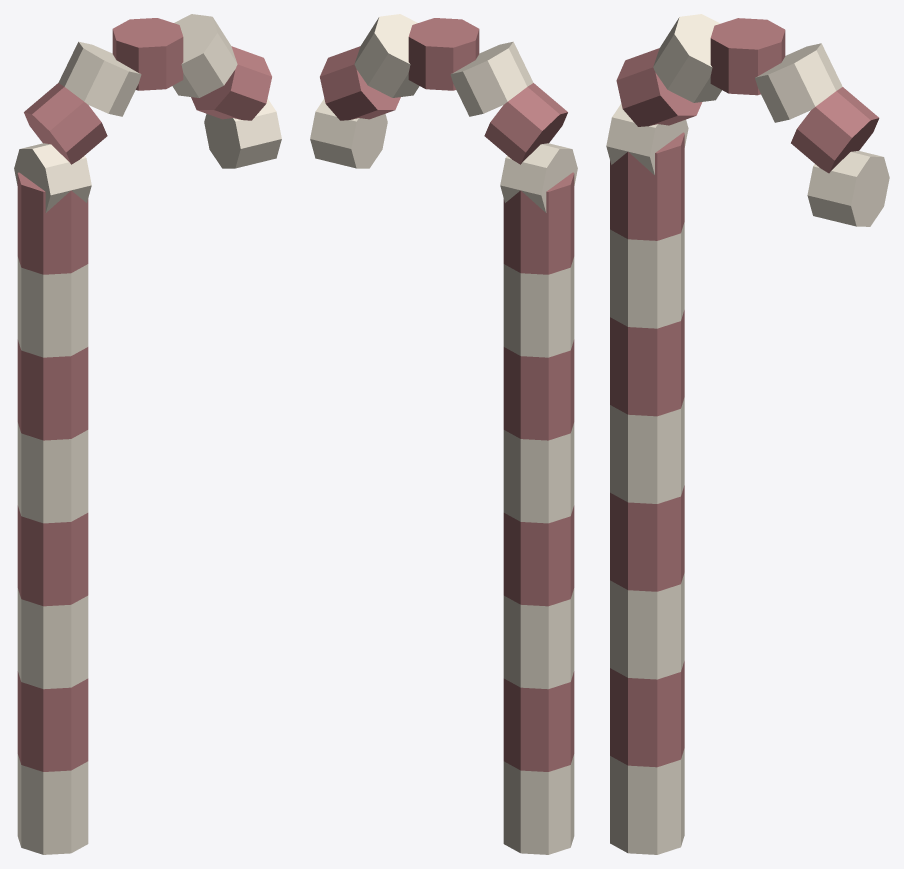
The model's file is sb_candy_cane_tree.glb.
The picture shows the model from 3 angles, left to right: view 1: azimuth 30°, elevation 25°; view 2: azimuth 150°, elevation 25°; view 3: azimuth 330°, elevation 25°; orthographic projection. The views are drawn at different scales.
Parts seen in each view (by area): view 1: candy_cane_tree; view 2: candy_cane_tree; view 3: candy_cane_tree.
Part boxes in pixels (<box>): candy_cane_tree: <box>14,14,281,854</box>; candy_cane_tree: <box>310,14,577,854</box>; candy_cane_tree: <box>606,14,889,854</box>.
Bounding box in the file's own units: 0.7661 × 2.37 × 0.2.
